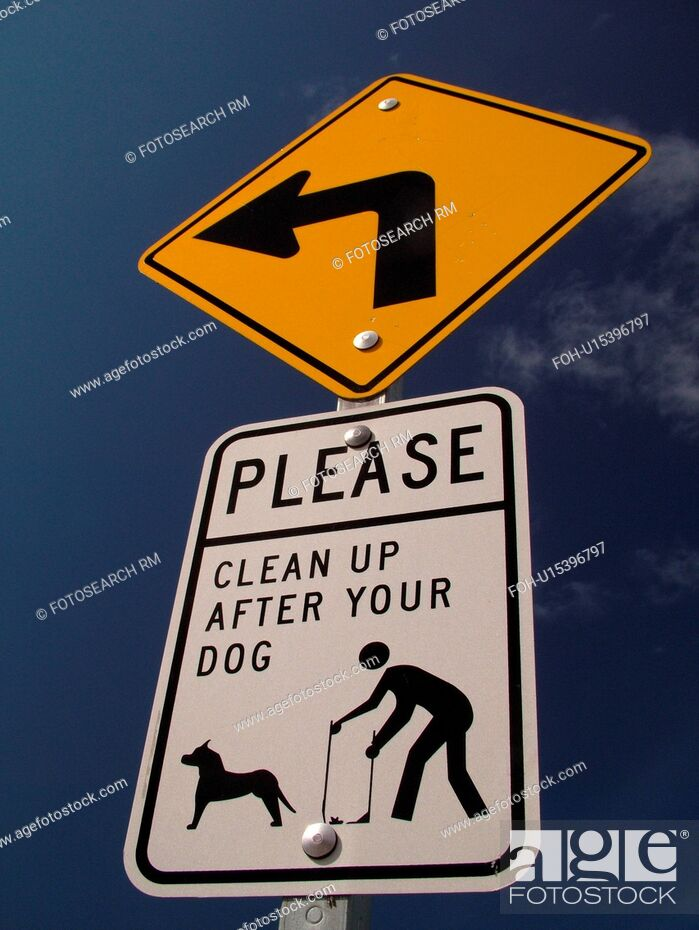left: (131, 65, 656, 405)
